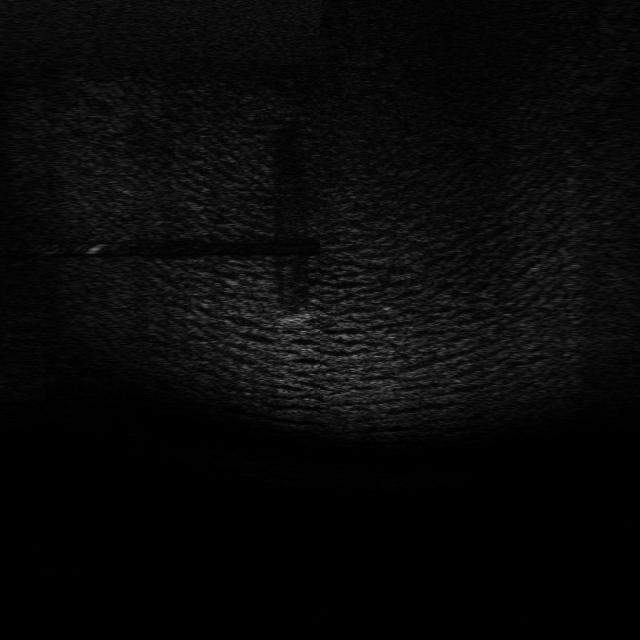cube: (273, 306, 312, 332)
